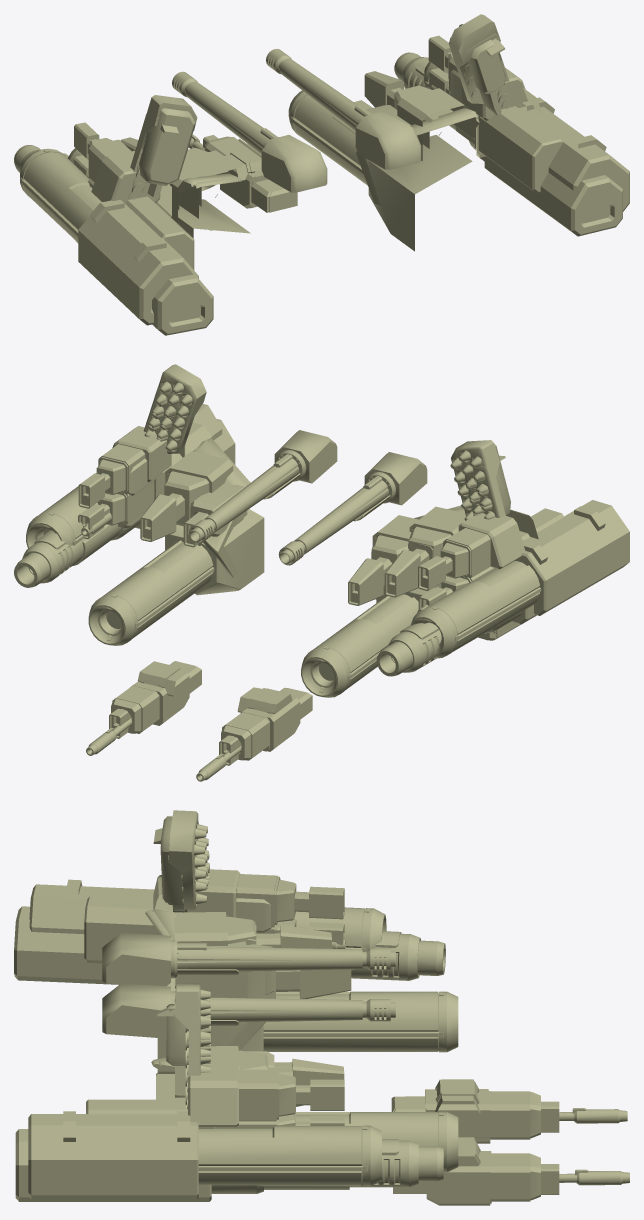
Rendered from LocustWeapons.glb.
The picture shows the model from 3 angles, top to bottom: view 1: azimuth 30°, elevation 25°; view 2: azimuth 150°, elevation 25°; view 3: azimuth 270°, elevation 25°; orthographic projection. The views are drawn at different scales.
Parts seen in each view (by area): view 1: Upperarm_Left_EH1_PPC, Torso_Right_EH1_PPC, Upperarm_Right_BH1_AC10, Torso_Center_BH1_AC2, Torso_Center_BH2_AC2, Upperarm_Right_EH1_Flamer, Upperarm_Right_EH1_PPC, Upperarm_Left_MH1_Missile20, Upperarm_Left_EH2_Flamer, Upperarm_Left_BH1_AC10, Torso_Right_EH2_Flamer, Upperarm_Right_MH1_Missile20 (+13 smaller); view 2: Upperarm_Left_EH1_PPC, Torso_Right_EH1_PPC, Torso_Left_EH1_PPC, Torso_Center_BH1_AC2, Torso_Center_BH2_AC2, Upperarm_Left_EH2_Flamer, Torso_Right_EH2_Flamer, Upperarm_Right_BH1_AC10, Upperarm_Right_EH2_Flamer, Torso_Left_EH2_Flamer, Torso_Left_EH1_Flamer, Upperarm_Left_BH1_AC10 (+16 smaller); view 3: Upperarm_Right_EH1_PPC, Torso_Left_EH1_PPC, Torso_Center_BH2_AC2, Torso_Center_BH1_AC2, Upperarm_Right_EH2_Flamer, Upperarm_Left_BH1_AC10, Upperarm_Left_EH1_PPC, Upperarm_Right_BH1_AC10, Upperarm_Left_EH2_Flamer, Torso_Center_EH2_Laser, Torso_Left_EH1_Flamer, Upperarm_Left_EH1_Flamer (+16 smaller).
Boxes of the visible parts, <box> form: Upperarm_Left_EH1_PPC: <box>20,148,198,325</box>; Torso_Right_EH1_PPC: <box>288,90,472,251</box>; Upperarm_Right_BH1_AC10: <box>394,52,622,236</box>; Torso_Center_BH1_AC2: <box>266,48,421,169</box>; Torso_Center_BH2_AC2: <box>172,71,327,192</box>; Upperarm_Right_EH1_Flamer: <box>429,68,562,193</box>; Upperarm_Right_EH1_PPC: <box>423,61,629,211</box>; Upperarm_Left_MH1_Missile20: <box>128,95,197,197</box>; Upperarm_Left_EH2_Flamer: <box>74,122,160,203</box>; Upperarm_Left_BH1_AC10: <box>14,145,213,335</box>; Torso_Right_EH2_Flamer: <box>364,71,464,163</box>; Upperarm_Right_MH1_Missile20: <box>448,14,507,108</box>; Upperarm_Left_EH1_PPC: <box>410,500,629,658</box>; Torso_Right_EH1_PPC: <box>88,509,264,645</box>; Torso_Left_EH1_PPC: <box>301,583,441,697</box>; Torso_Center_BH1_AC2: <box>189,430,337,543</box>; Torso_Center_BH2_AC2: <box>278,452,427,565</box>; Upperarm_Left_EH2_Flamer: <box>418,514,525,590</box>; Torso_Right_EH2_Flamer: <box>140,451,233,541</box>; Upperarm_Right_BH1_AC10: <box>14,419,235,587</box>; Upperarm_Right_EH2_Flamer: <box>78,426,171,508</box>; Torso_Left_EH2_Flamer: <box>384,506,465,597</box>; Torso_Left_EH1_Flamer: <box>348,505,461,605</box>; Upperarm_Left_BH1_AC10: <box>376,605,536,676</box>; Upperarm_Right_EH1_PPC: <box>28,1111,381,1199</box>; Torso_Left_EH1_PPC: <box>157,978,458,1071</box>; Torso_Center_BH2_AC2: <box>102,932,395,986</box>; Torso_Center_BH1_AC2: <box>102,983,395,1038</box>; Upperarm_Right_EH2_Flamer: <box>188,1064,344,1126</box>; Upperarm_Left_BH1_AC10: <box>14,906,445,984</box>; Upperarm_Left_EH1_PPC: <box>29,879,386,951</box>; Upperarm_Right_BH1_AC10: <box>15,1129,443,1201</box>; Upperarm_Left_EH2_Flamer: <box>185,869,344,927</box>; Torso_Center_EH2_Laser: <box>435,1139,540,1201</box>; Torso_Left_EH1_Flamer: <box>145,910,351,1045</box>; Upperarm_Left_EH1_Flamer: <box>84,896,344,963</box>.
Size of the model in its own units: 1.35 by 0.6452 by 1.33.
